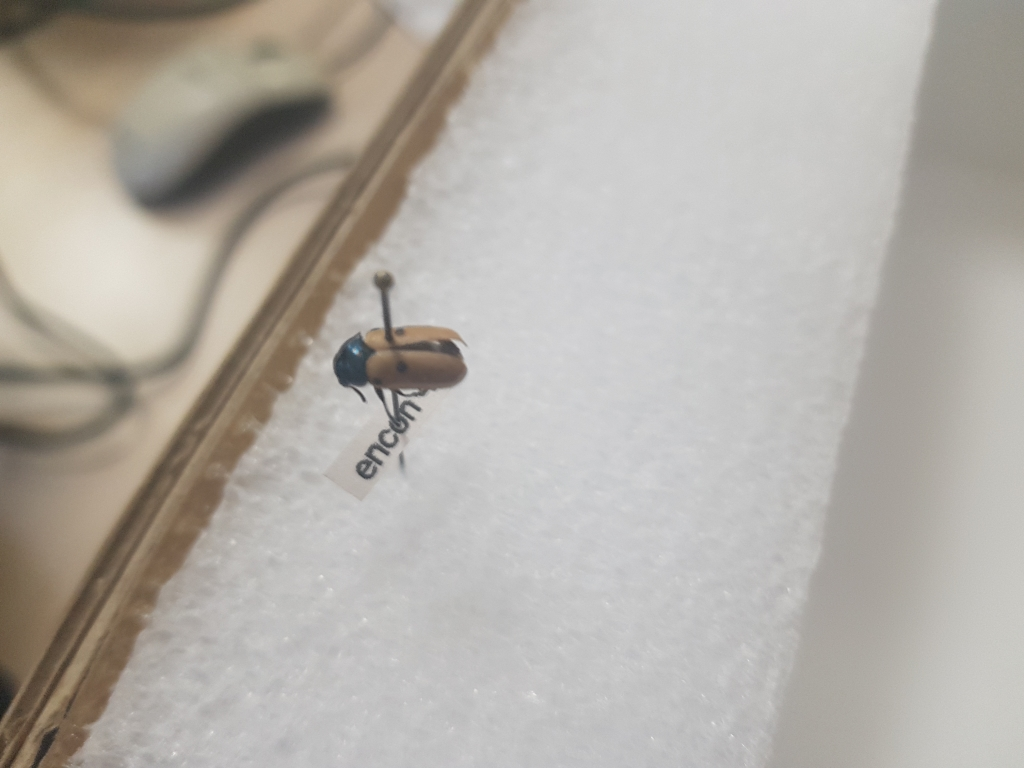Labidostomis_maculipennis: (336, 318, 473, 408)
